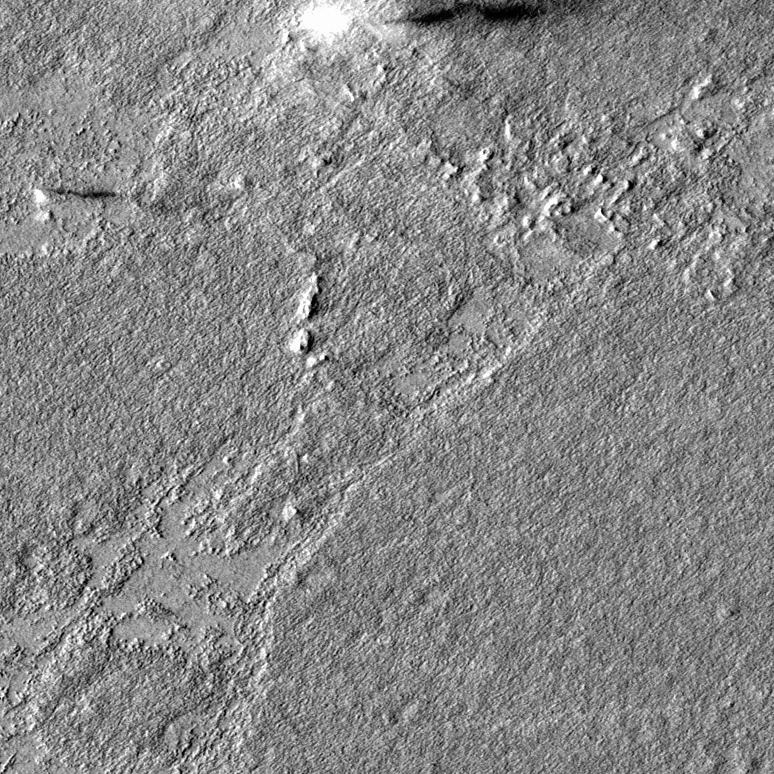dust_devil: (295, 1, 593, 44), (30, 186, 119, 207)
